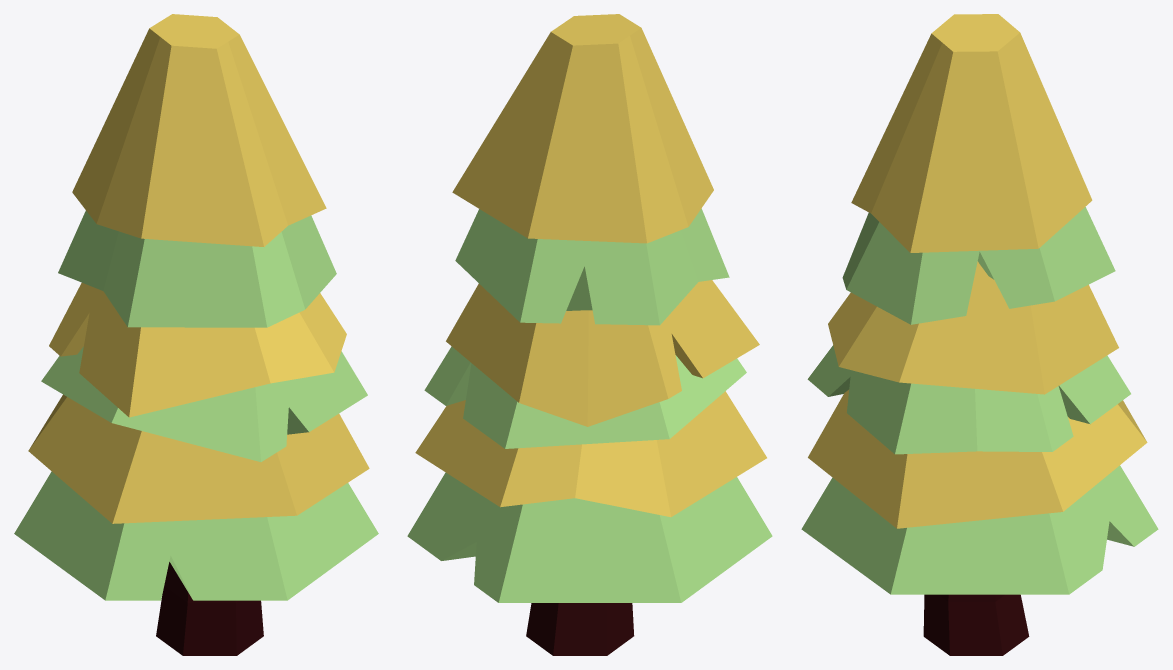
File: Yellow_Tree.fbx
The picture shows the model from 3 angles, left to right: view 1: azimuth 30°, elevation 25°; view 2: azimuth 150°, elevation 25°; view 3: azimuth 270°, elevation 25°; orthographic projection. The views are drawn at different scales.
Parts seen in each view (by area): view 1: Cylinder.006, Cylinder.001, Cylinder.002, Cylinder.005, Cylinder.004, Cylinder.003, Cylinder; view 2: Cylinder.006, Cylinder.001, Cylinder.004, Cylinder.002, Cylinder.005, Cylinder.003, Cylinder; view 3: Cylinder.006, Cylinder.001, Cylinder.002, Cylinder.004, Cylinder.003, Cylinder.005, Cylinder.
Part boxes in pixels (x1,y1,x2,y2): Cylinder.006: (72, 14, 326, 246); Cylinder.001: (14, 471, 378, 600); Cylinder.002: (28, 394, 369, 523); Cylinder.005: (58, 210, 336, 327); Cylinder.004: (49, 283, 346, 417); Cylinder.003: (41, 346, 367, 461); Cylinder: (156, 562, 263, 655); Cylinder.006: (452, 14, 713, 243); Cylinder.001: (407, 472, 772, 602); Cylinder.004: (446, 280, 759, 426); Cylinder.002: (415, 391, 766, 517); Cylinder.005: (455, 208, 729, 325); Cylinder.003: (424, 346, 746, 448); Cylinder: (526, 603, 634, 655); Cylinder.006: (851, 14, 1092, 252); Cylinder.001: (801, 465, 1158, 594); Cylinder.002: (808, 389, 1147, 528); Cylinder.004: (828, 261, 1118, 394); Cylinder.003: (807, 345, 1130, 454); Cylinder.005: (842, 207, 1115, 324); Cylinder: (923, 594, 1029, 655).
Bounding box in the file's own units: 428 × 914 × 494.
